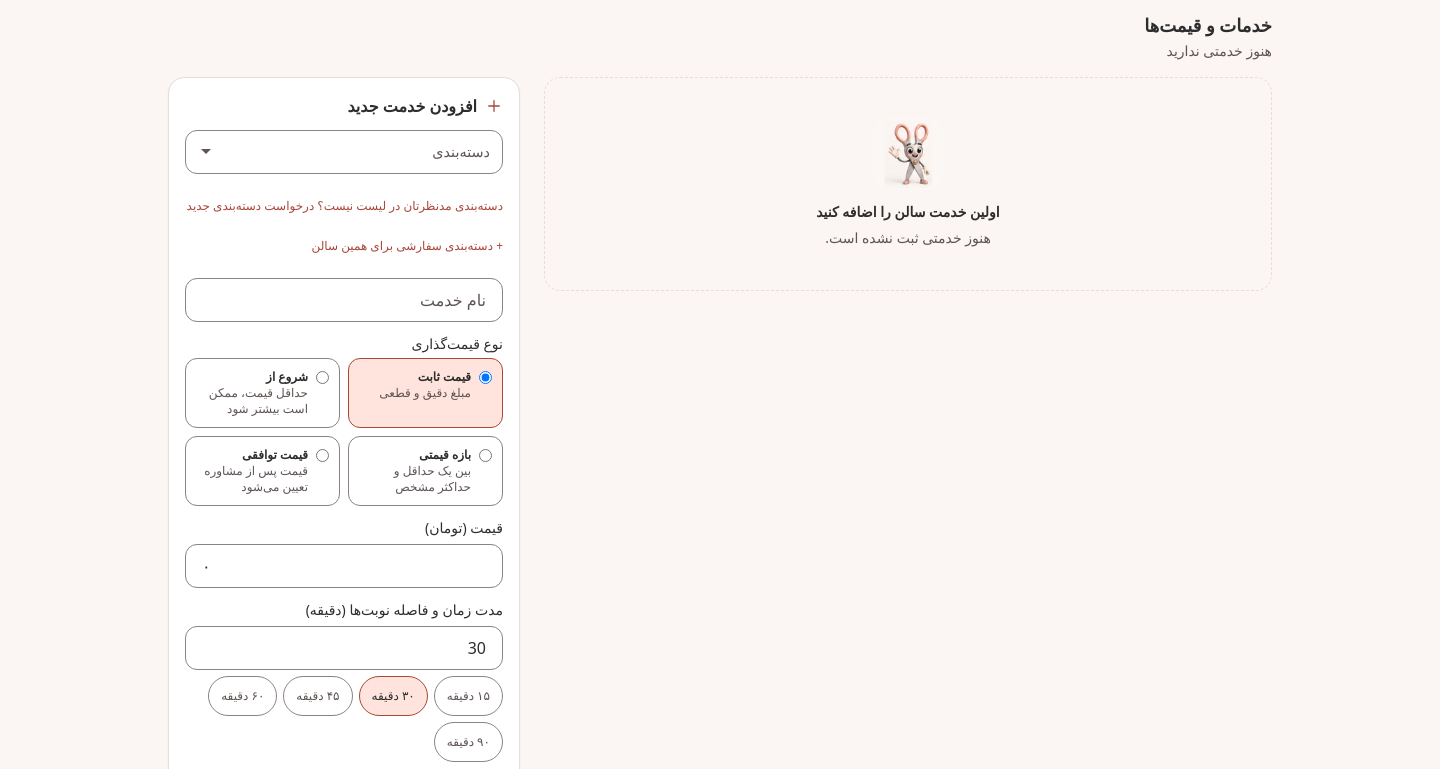
Test: ServicesView › shows an inline error and skips the request when adding a service without a category
Type "رنگ مو" into the field with placeholder "نام خدمت" at (344, 300), box [185,278,503,322]
(page scrolled)
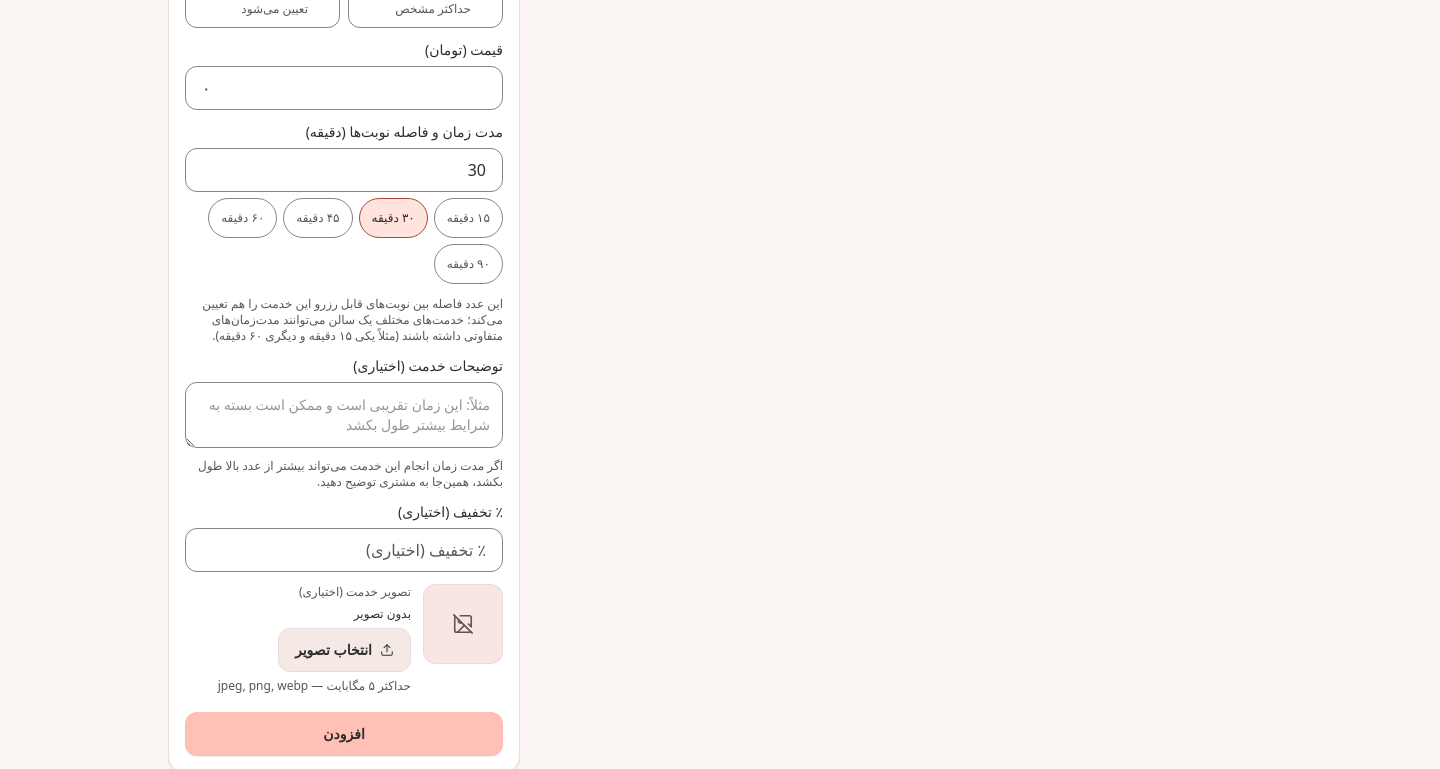
Click the button "افزودن" at (344, 734), box [185,712,503,756]
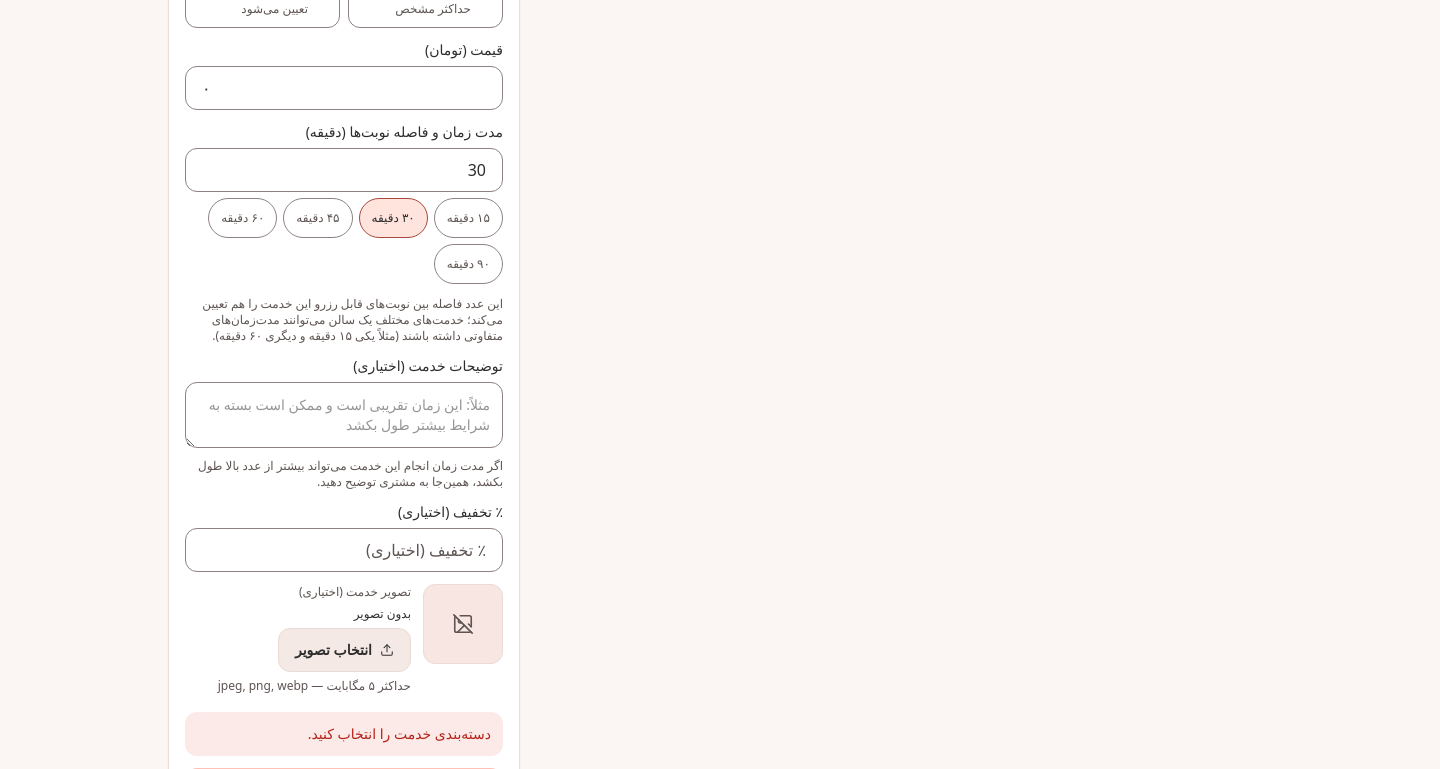
Expected: the text "دسته‌بندی خدمت را انتخاب کنید" is shown, [308,724,491,743]
